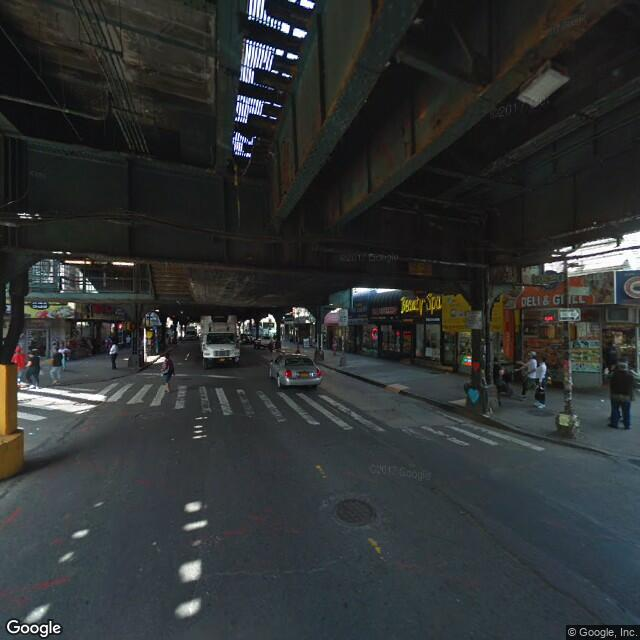litter: (595, 399, 614, 405)
